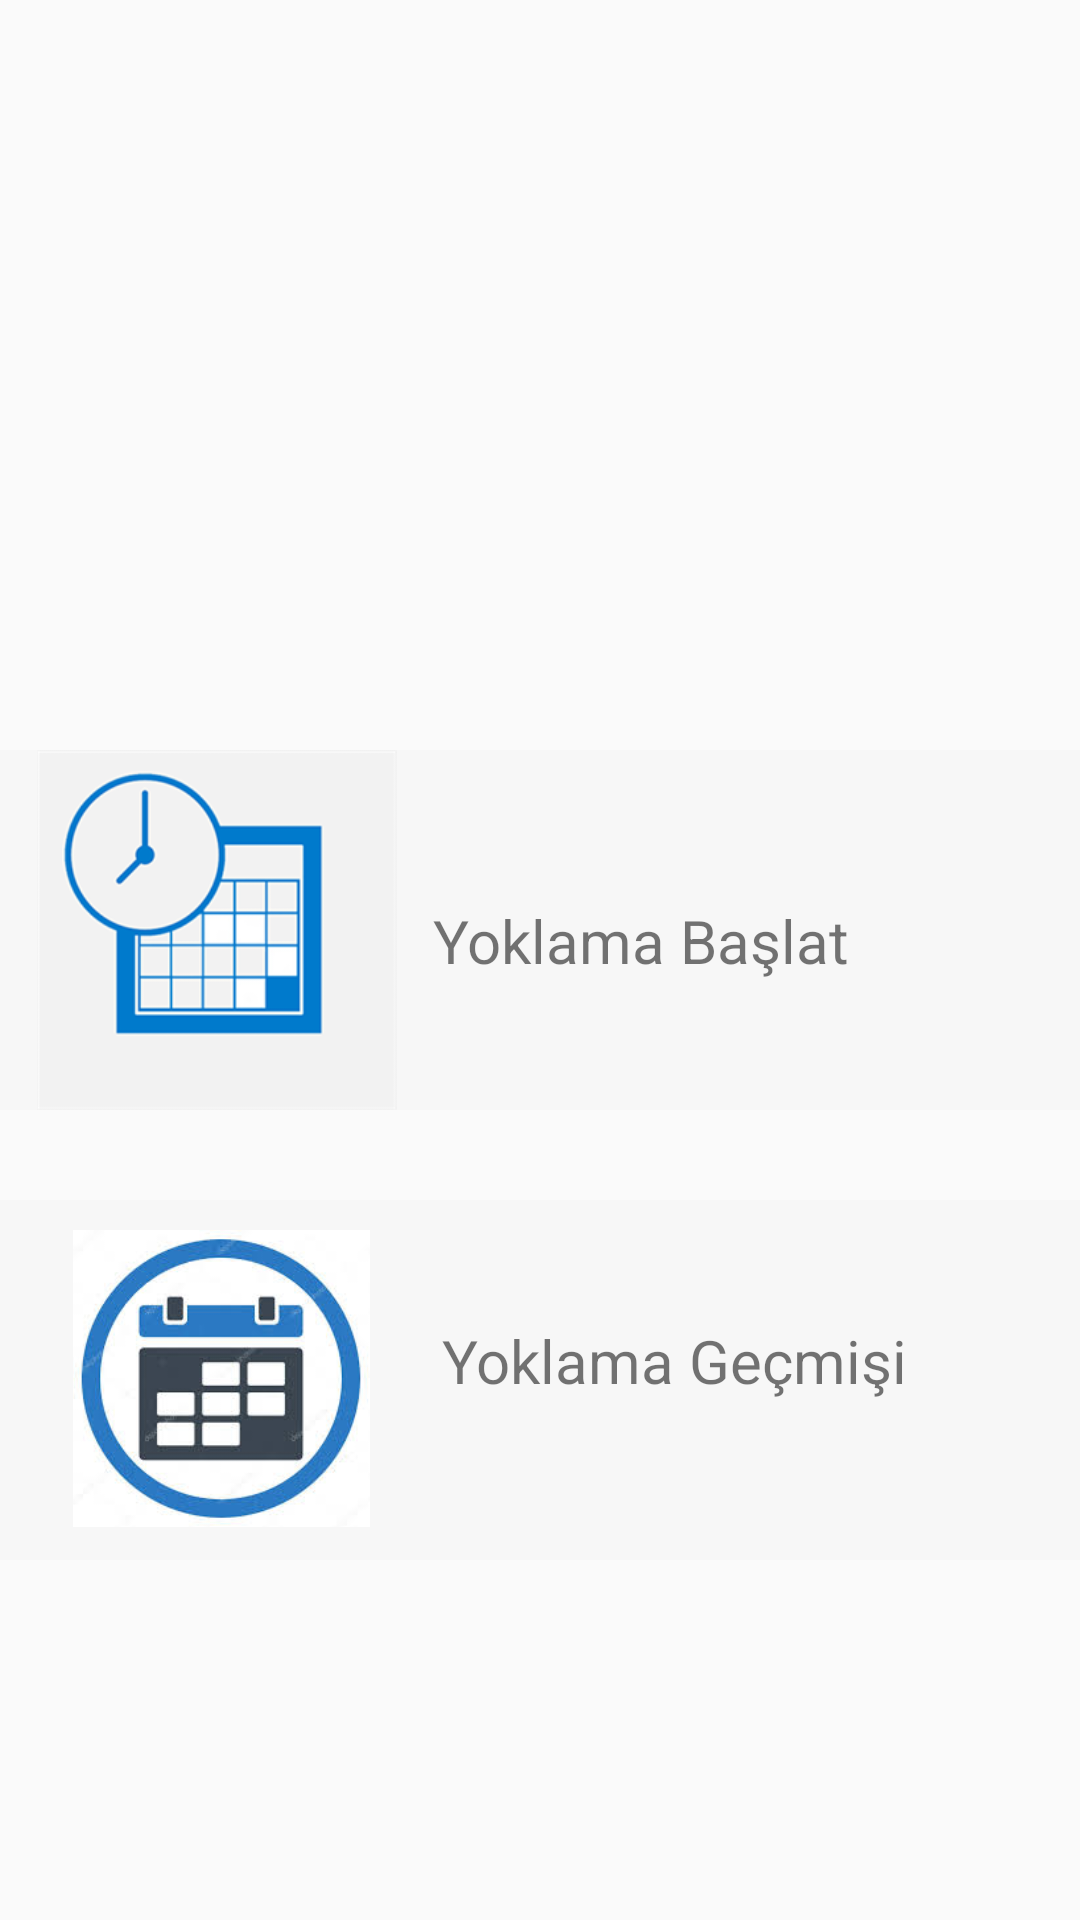

Where to tap for icons on this 1080px×1920px app screen, as (x=x, y=y):
date: (x=221, y=1378)
now: (x=193, y=903)
